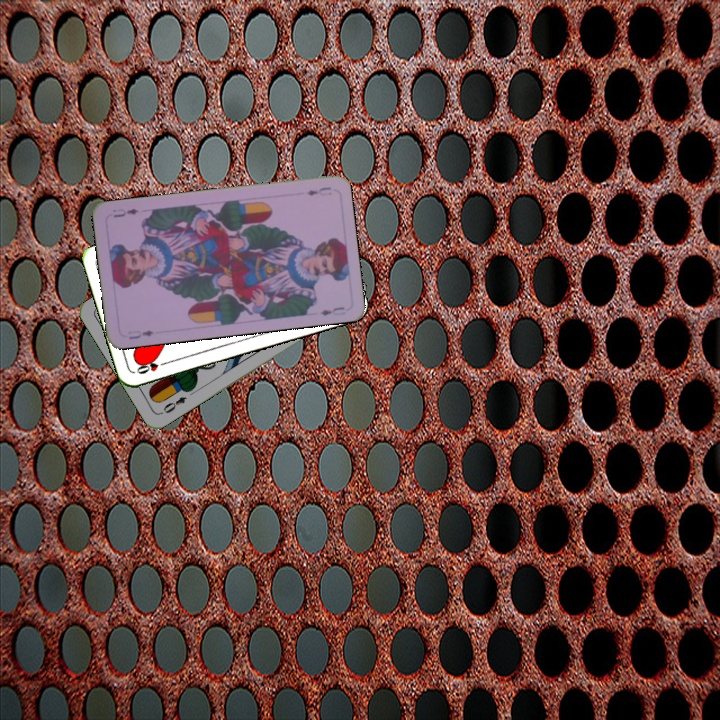EO: (159, 392, 189, 416)
EU: (124, 326, 157, 342), (303, 183, 334, 198)
HO: (132, 357, 172, 377)
